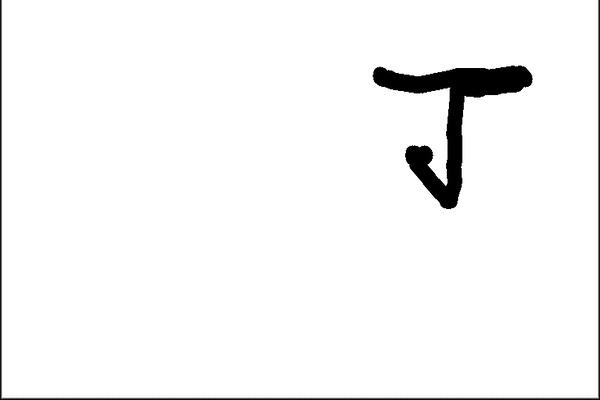J: (362, 53, 537, 214)
